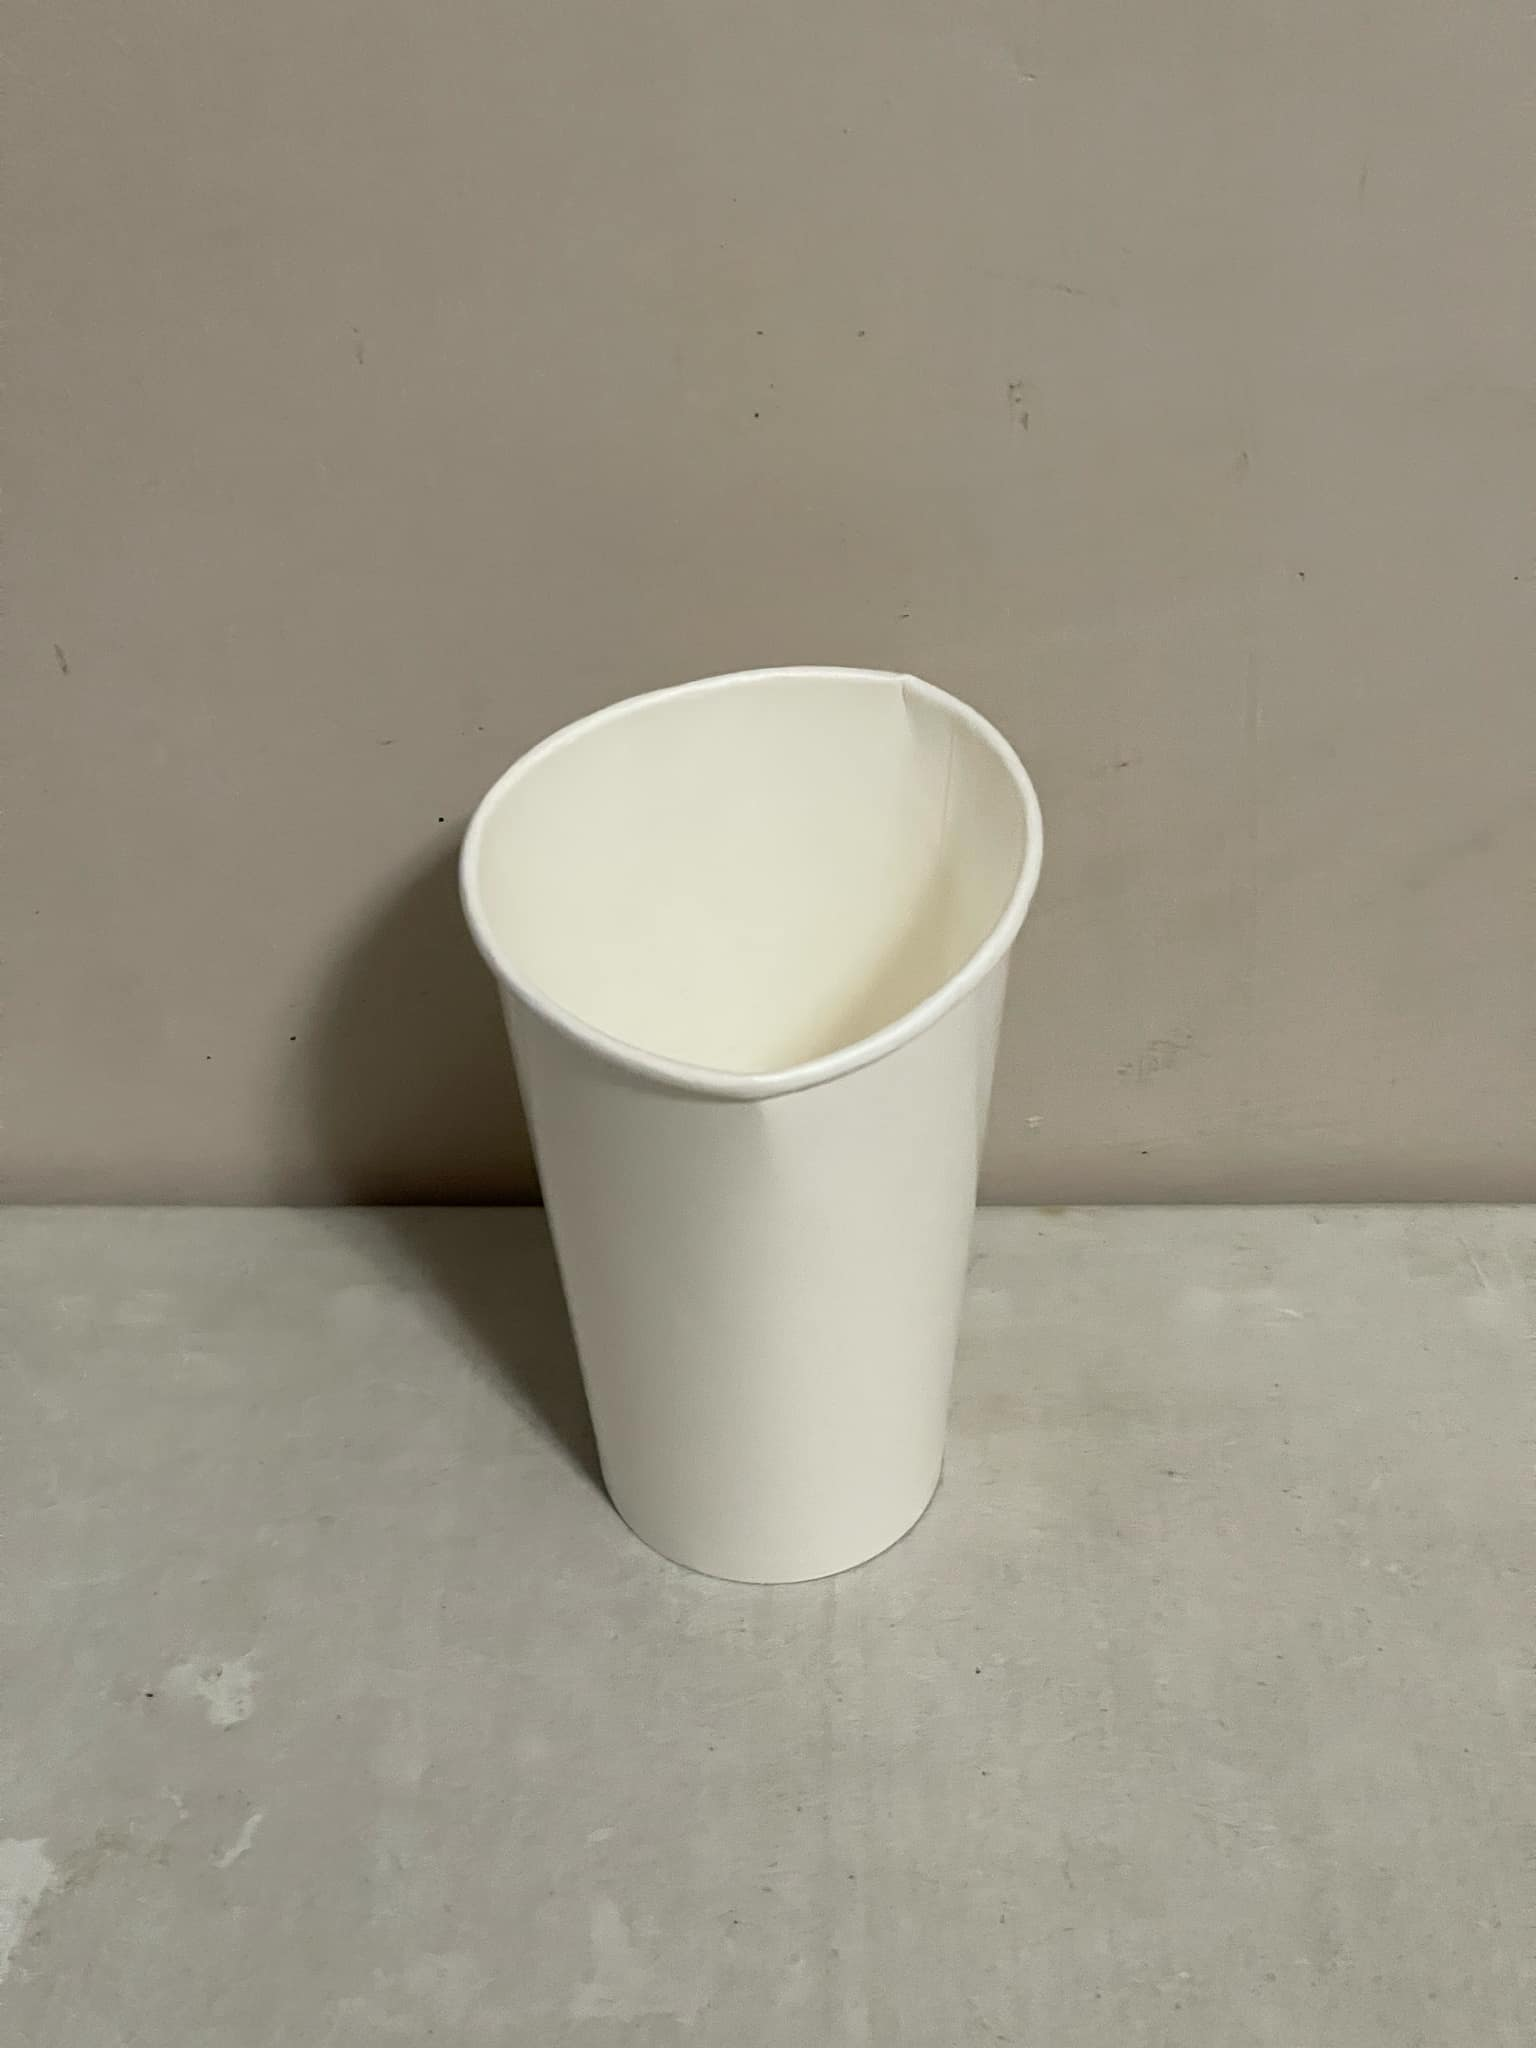Paper Food Packages: (440, 624, 1036, 1648)
